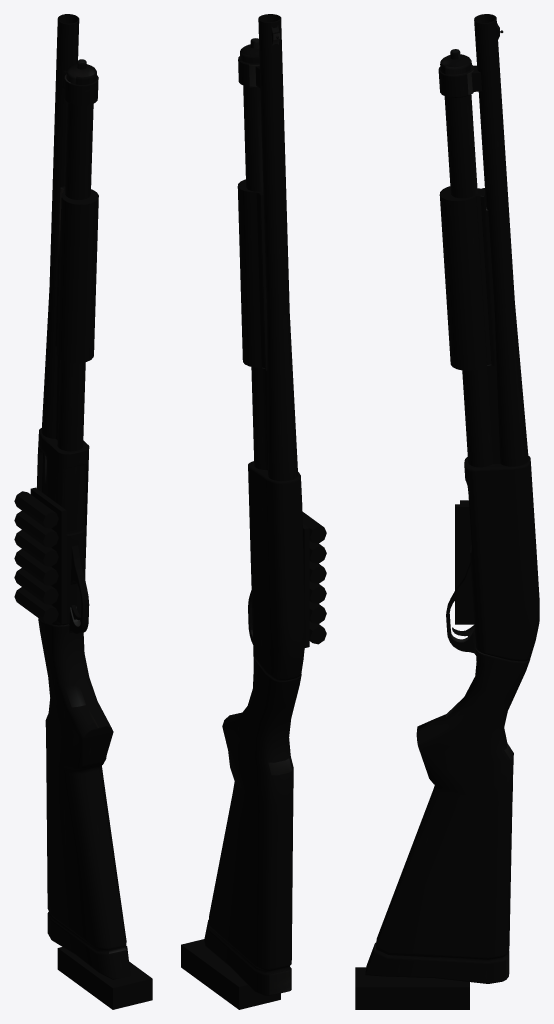
Rendered from Rem870__RecoilPad_Rubber__Sidesaddle_Shotgun.fbx.
3 views of the same model, side by side, from view 1: azimuth 30°, elevation 25°; view 2: azimuth 210°, elevation 25°; view 3: azimuth 270°, elevation 25° (orthographic). The views are drawn at different scales.
Visible parts, largest first — view 1: asset_Rem870.001; view 2: asset_Rem870.001; view 3: asset_Rem870.001.
Part boxes in pixels (x1=…): asset_Rem870.001: x1=14, y1=14, x2=152, y2=1009; asset_Rem870.001: x1=181, y1=14, x2=326, y2=1009; asset_Rem870.001: x1=355, y1=14, x2=539, y2=1009.
Size of the model in its own units: 0.0429 by 0.651 by 0.1108.
